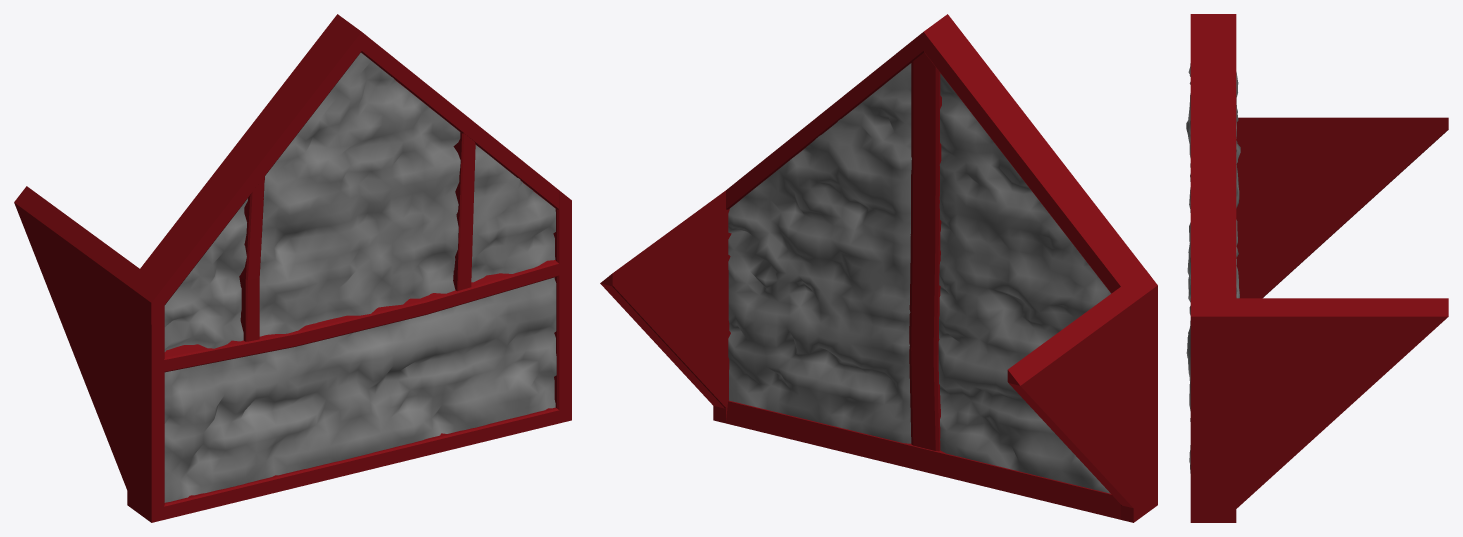
Rendered from SM_MH_01_Stone_Wall_Skylight_02.fbx.
The picture shows the model from 3 angles, left to right: view 1: azimuth 30°, elevation 25°; view 2: azimuth 150°, elevation 25°; view 3: azimuth 270°, elevation 25°; orthographic projection. The views are drawn at different scales.
Parts seen in each view (by area): view 1: SM_MH_01_Stone_Wall_Skylight_02_LOD0; view 2: SM_MH_01_Stone_Wall_Skylight_02_LOD0; view 3: SM_MH_01_Stone_Wall_Skylight_02_LOD0.
Boxes of the visible parts, x1=… form: SM_MH_01_Stone_Wall_Skylight_02_LOD0: x1=14, y1=14, x2=571, y2=522; SM_MH_01_Stone_Wall_Skylight_02_LOD0: x1=600, y1=14, x2=1157, y2=522; SM_MH_01_Stone_Wall_Skylight_02_LOD0: x1=1186, y1=14, x2=1448, y2=522.
Size of what is drawn, in the model's own units: 300 by 300 by 173.
